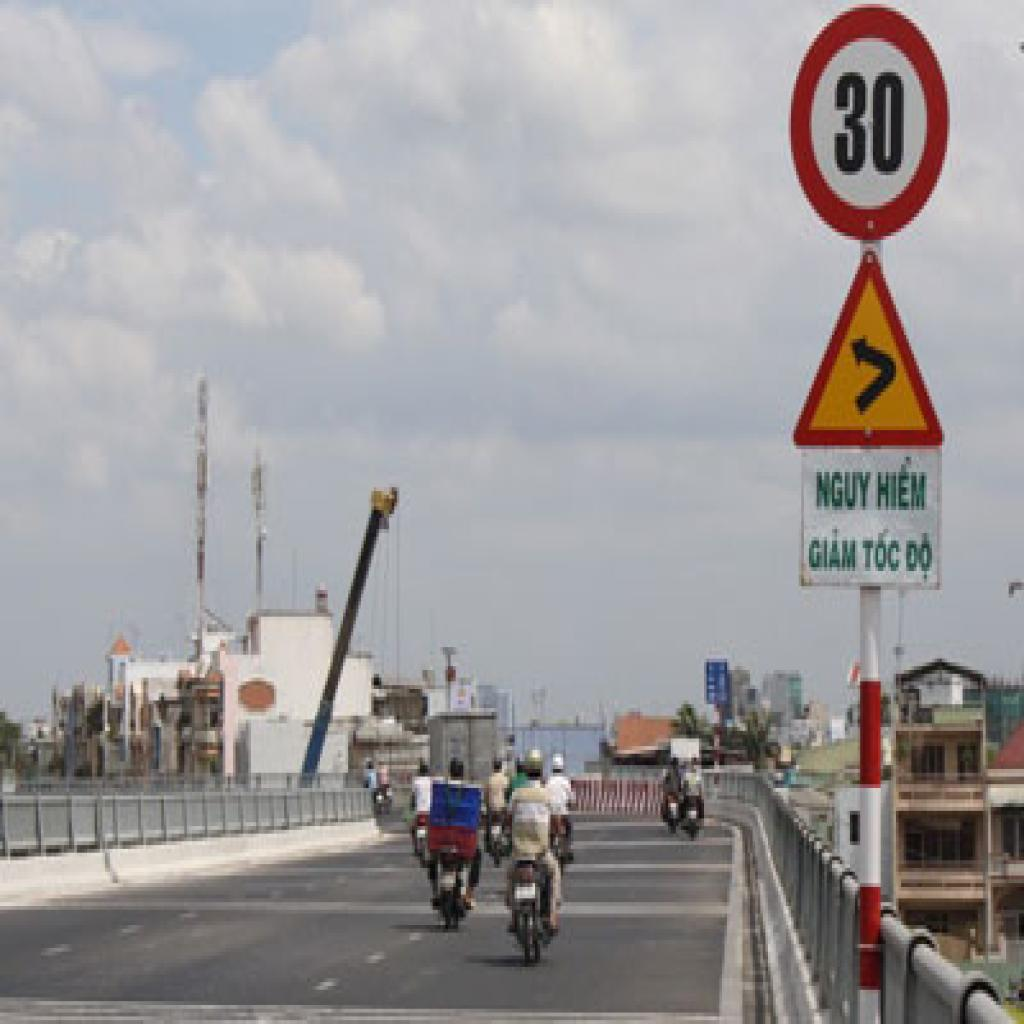text: (829, 68, 909, 186), (873, 453, 932, 522), (812, 464, 878, 514), (806, 522, 860, 578), (858, 526, 906, 582)
